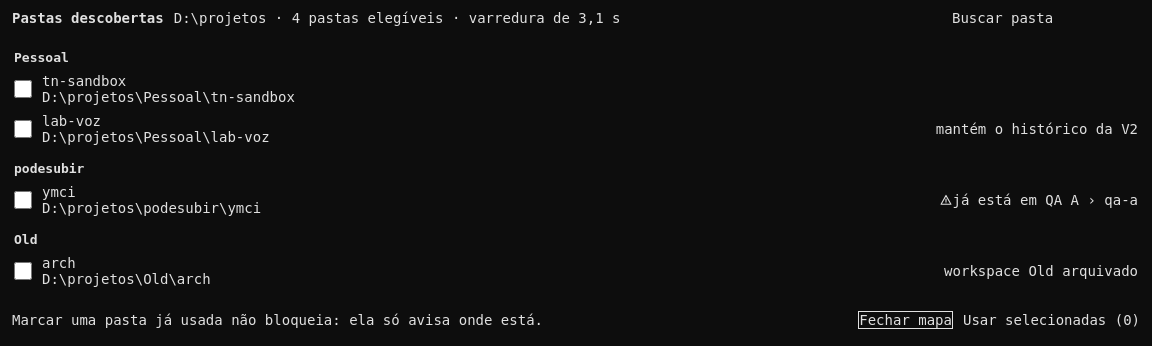
Scenario: DiscoverPanel › the search filters by name, path or client and says so when nothing matches
In the field labelled "Buscar pasta": (1040, 18) [940,10,1140,26], type "LAB"
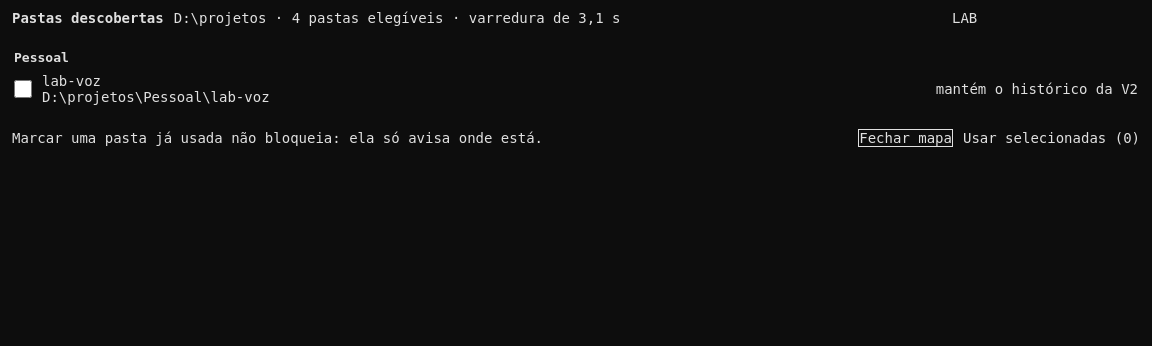
Expected: the number of checkboxes is 1, [14,80,32,98]
Replace the text in the field named "Buscar pasta" with "podesubir": (1040, 18) [940,10,1140,26]
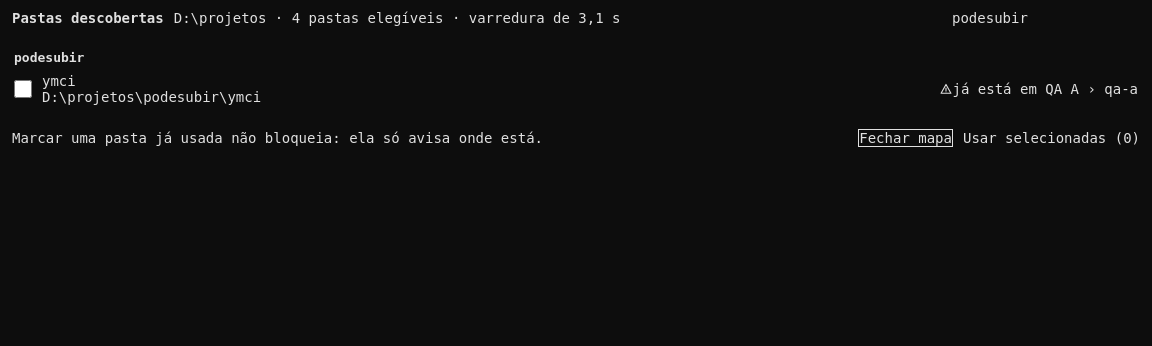
Expected: the number of checkboxes is 1, [14,80,32,98]
Replace the text in the field named "Buscar pasta" with "zzz": (1040, 18) [940,10,1140,26]
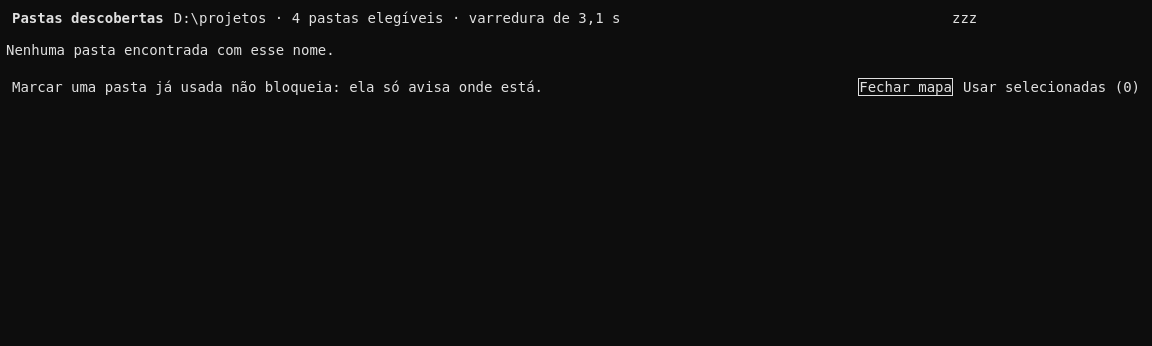
Now no checkboxes are shown
Now the text "Nenhuma pasta encontrada com esse nome." is shown, box [6,42,335,58]
